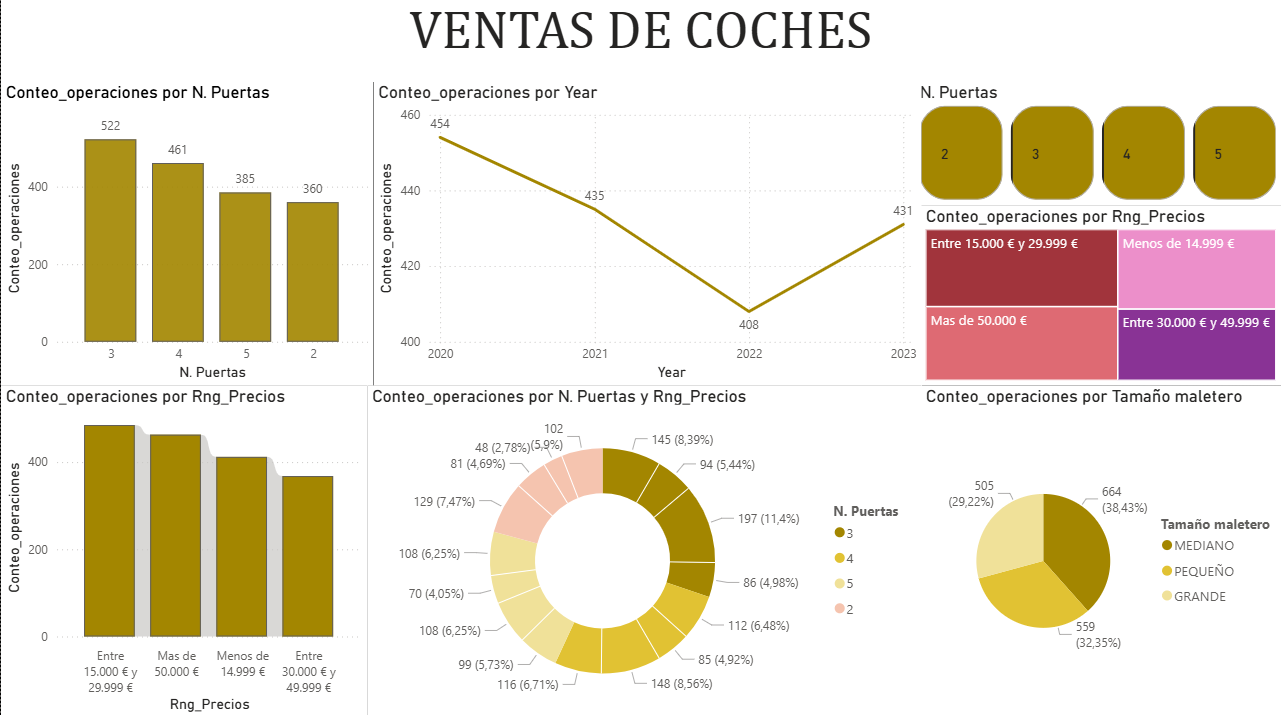

The page's visual inventory and layout, read from the dashboard file:
{"tool":"powerbi","page":{"name":"Page 1","canvas":[1280,720],"ordinal":0},"visuals":[{"type":"columnChart","fields":{"Category":["HEC_Ventas_Coches.N. Puertas"],"Y":["TMedidas_Ventas.Conteo_operaciones"]},"box":[0,84,372,304],"z":0},{"type":"pieChart","fields":{"Category":["HEC_Ventas_Coches.Tamaño maletero"],"Y":["TMedidas_Ventas.Conteo_operaciones"]},"box":[920,388,360,332],"z":1000},{"type":"columnChart","fields":{"Category":["HEC_Ventas_Coches.Rng_Precios"],"Y":["TMedidas_Ventas.Conteo_operaciones"]},"box":[0,388,366,332],"z":2000},{"type":"donutChart","fields":{"Category":["HEC_Ventas_Coches.N. Puertas","HEC_Ventas_Coches.Tamaño maletero"],"Y":["TMedidas_Ventas.Conteo_operaciones"],"Series":["HEC_Ventas_Coches.Rng_Precios"]},"box":[366,388,554,332],"z":3000},{"type":"advancedSlicerVisual","fields":{"Values":["HEC_Ventas_Coches.N. Puertas"]},"box":[914,84,366,124],"z":4000},{"type":"textbox","box":[0,0,1280,84],"z":5000},{"type":"lineChart","fields":{"Category":["HEC_Ventas_Coches.Fec. Operación.Variation.Date Hierarchy.Year","HEC_Ventas_Coches.Fec. Operación.Variation.Date Hierarchy.Quarter","HEC_Ventas_Coches.Fec. Operación.Variation.Date Hierarchy.Month","HEC_Ventas_Coches.Fec. Operación.Variation.Date Hierarchy.Day"],"Y":["TMedidas_Ventas.Conteo_operaciones"]},"box":[372,84,548,304],"z":6000},{"type":"treemap","fields":{"Group":["HEC_Ventas_Coches.Rng_Precios"],"Values":["TMedidas_Ventas.Conteo_operaciones"]},"box":[920,208,360,180],"z":7000}]}

Visuals, with their boxes in screenshot pixels (x1, y1, x2, y2), scaled from the page's 1280x720 canvas onto the 1281x715 screenshot:
columnChart - HEC_Ventas_Coches.N. Puertas x TMedidas_Ventas.Conteo_operaciones: pyautogui.locateOnScreen(0, 83, 372, 385)
pieChart - HEC_Ventas_Coches.Tamaño maletero x TMedidas_Ventas.Conteo_operaciones: pyautogui.locateOnScreen(921, 385, 1280, 714)
columnChart - HEC_Ventas_Coches.Rng_Precios x TMedidas_Ventas.Conteo_operaciones: pyautogui.locateOnScreen(0, 385, 366, 714)
donutChart - HEC_Ventas_Coches.N. Puertas x HEC_Ventas_Coches.Tamaño maletero: pyautogui.locateOnScreen(366, 385, 921, 714)
advancedSlicerVisual - HEC_Ventas_Coches.N. Puertas: pyautogui.locateOnScreen(915, 83, 1280, 207)
textbox: pyautogui.locateOnScreen(0, 0, 1280, 83)
lineChart - HEC_Ventas_Coches.Fec. Operación.Variation.Date Hierarchy.Year x HEC_Ventas_Coches.Fec. Operación.Variation.Date Hierarchy.Quarter: pyautogui.locateOnScreen(372, 83, 921, 385)
treemap - HEC_Ventas_Coches.Rng_Precios x TMedidas_Ventas.Conteo_operaciones: pyautogui.locateOnScreen(921, 207, 1280, 385)
